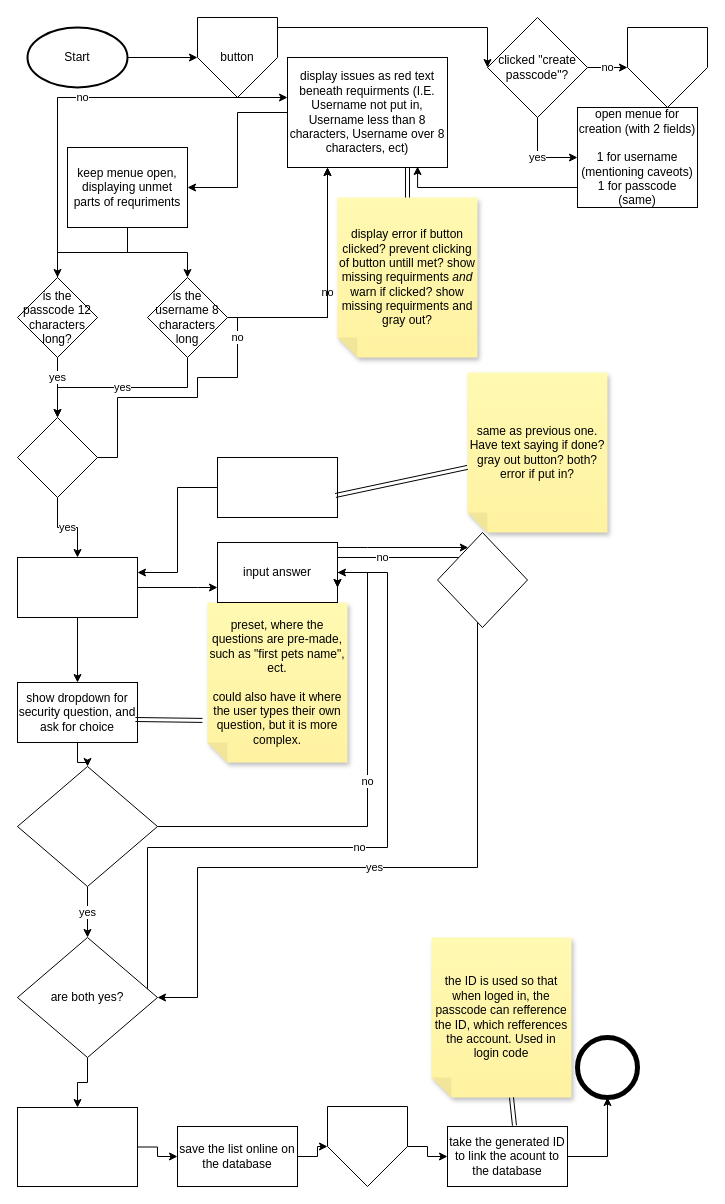
Image size: 725x1204. Some labels were removed from this diagram. The shapes that lost their labels are listed below. From the top down, each one's centre as x and y in pixels, then its label:
the point at 667,67: seperate code
the point at 57,457: are both "yes"?
the point at 277,487: show error of either "question and answer"
the point at 77,587: save username and passcode in temporary location
the point at 482,580: is answer greater than 4 characters
the point at 87,826: has a question been selected
the point at 77,1146: add the answer and question to the list after the username and passcode
the point at 367,1146: account
